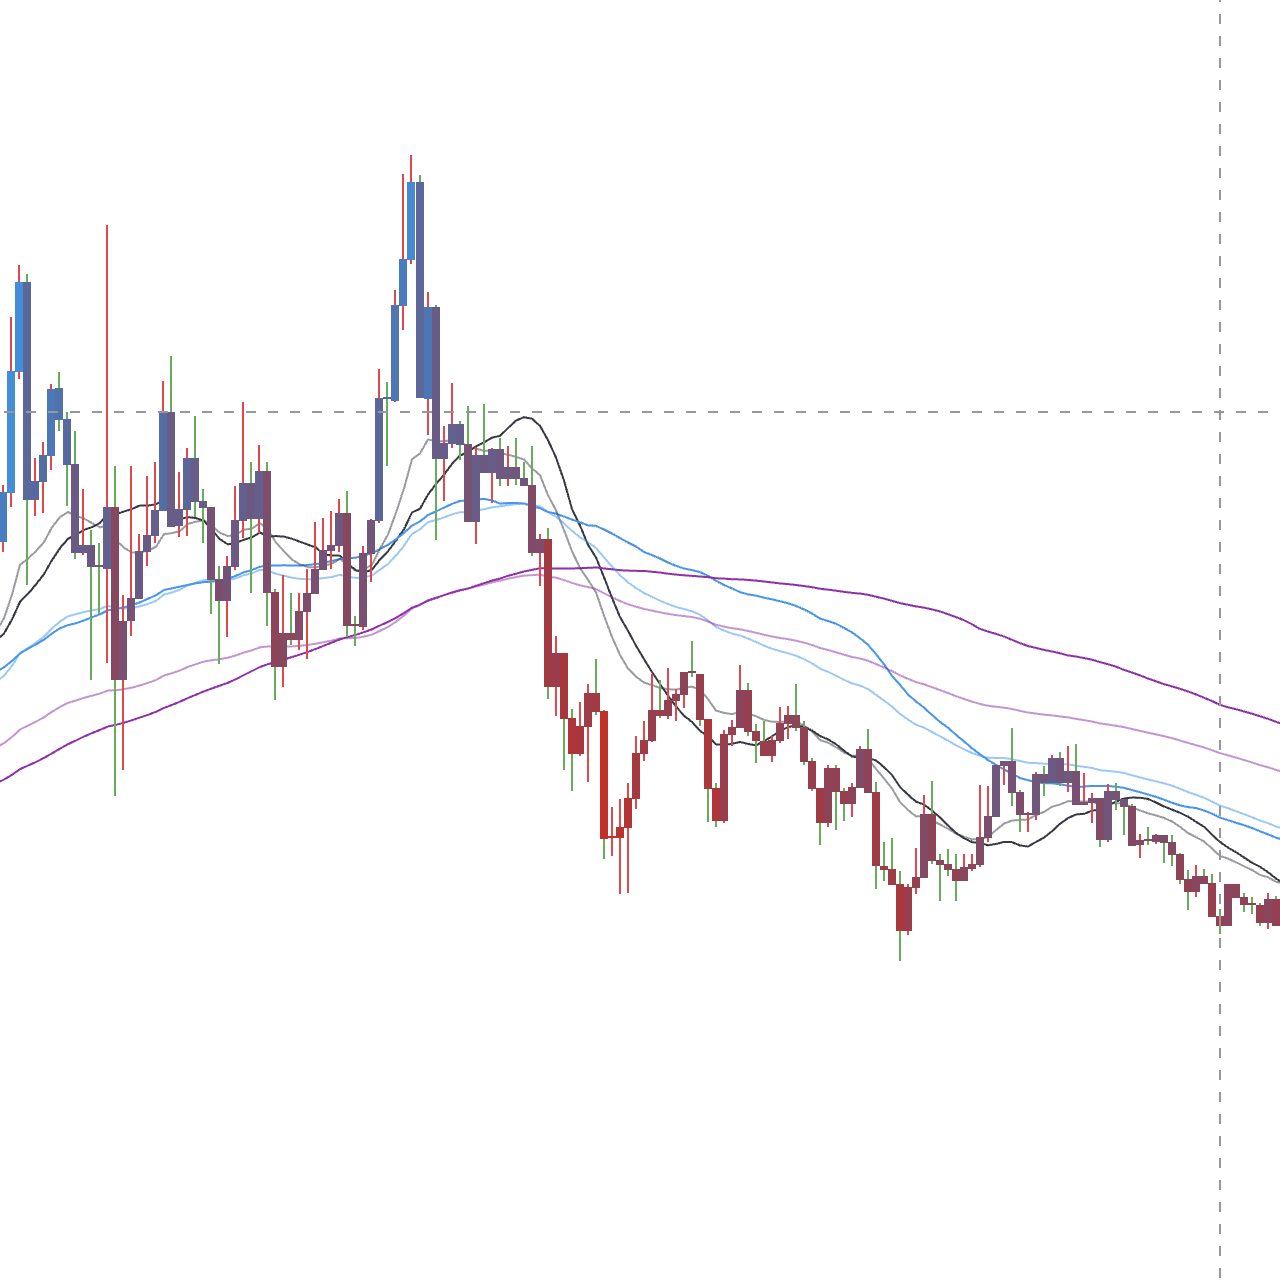ma_cluster: (496, 492, 673, 692)
